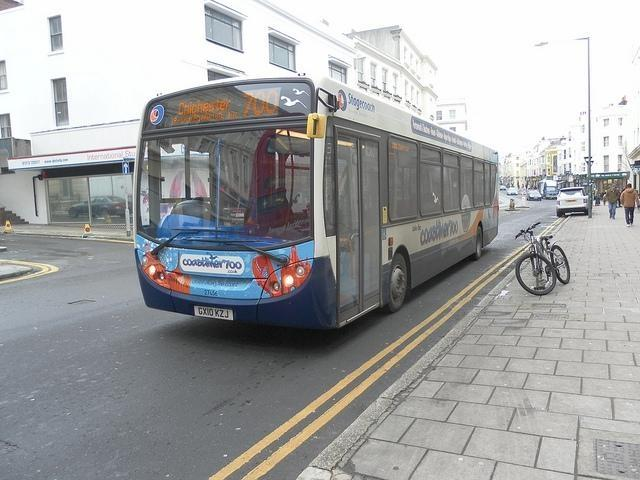bicycle: (515, 222, 570, 294)
bus: (132, 74, 502, 326)
car: (556, 186, 588, 218), (524, 190, 542, 202), (506, 188, 518, 196), (499, 186, 506, 191)
